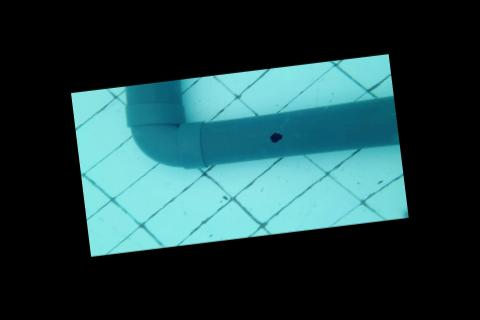kebocoran: (266, 128, 286, 144)
